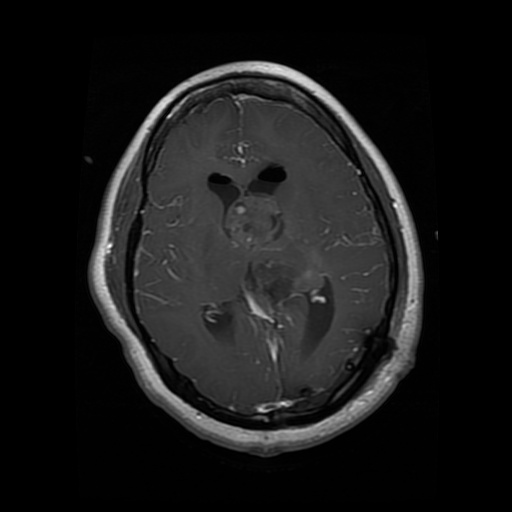glioma: (220, 191, 323, 298)
